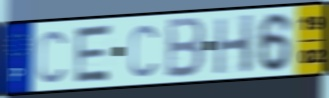6: (257, 10, 294, 73)
B: (164, 16, 207, 80)
C: (36, 29, 68, 85), (128, 23, 159, 80)
E: (72, 22, 115, 85)
H: (213, 13, 255, 77)
